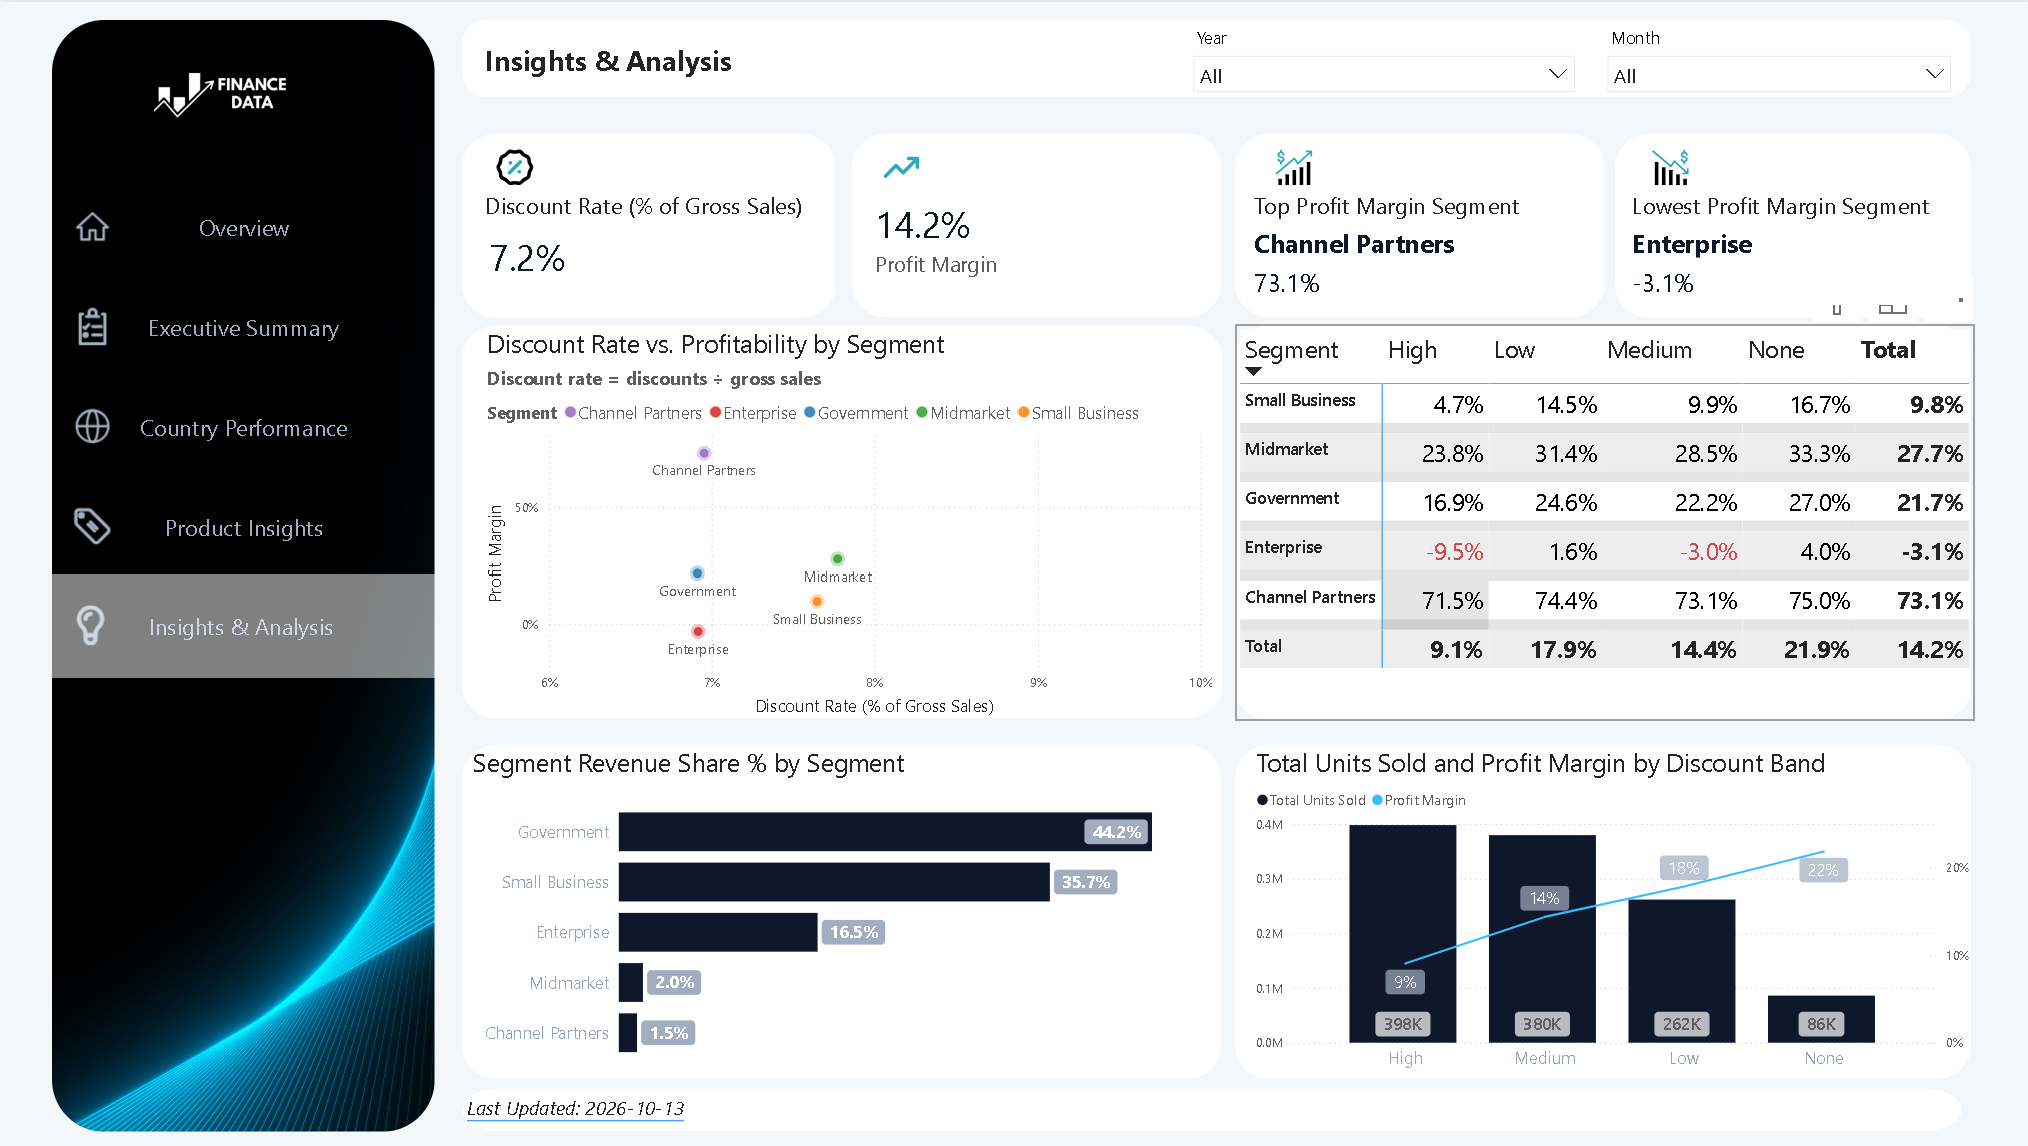

The dashboard page shown, as its layout file describes it:
{"tool":"powerbi","page":{"name":"Insights & Analysis","canvas":[1970,1150],"ordinal":4},"visuals":[{"type":"image","box":[52,18,368,1068],"z":0},{"type":"actionButton","box":[52,263.9,369,97],"z":1000},{"type":"actionButton","box":[52,359.1,369,97.2],"z":2000},{"type":"actionButton","box":[52,456,369,97],"z":3000},{"type":"image","box":[0,17.5,420.3,149.8],"z":4000},{"type":"shape","box":[446.4,17,1449.7,74.4],"z":5000},{"type":"textbox","box":[463.4,31.9,550.6,59.5],"z":6000},{"type":"shape","box":[820.5,127.5,354,176],"z":7000},{"type":"shape","box":[446.4,127.5,359.2,176.4],"z":8000},{"type":"slicer","fields":{"Values":["financials.Year"]},"box":[1139.4,17,386.9,74.4],"z":9000},{"type":"slicer","fields":{"Values":["financials.Month Name"]},"box":[1536.9,17,350.7,74.4],"z":10000},{"type":"actionButton","box":[52,167,369,97],"z":11000},{"type":"shape","box":[1188.3,127.5,355,176],"z":12000},{"type":"shape","box":[1553.9,127.5,342.2,176.4],"z":13000},{"type":"image","box":[834.8,138.2,68.1,40.9],"z":14000},{"type":"image","box":[1210.6,138.3,67,41],"z":15000},{"type":"image","box":[1572.1,138,67.9,41.2],"z":16000},{"type":"image","box":[463.4,138.2,67,41],"z":17000},{"type":"shape","box":[446,312,730,376],"z":18000},{"type":"shape","box":[1188,312,708,378],"z":19000},{"type":"cardVisual","fields":{"Data":["Basemeasure.Profit Margin"]},"box":[834.8,180,325,130],"z":20000},{"type":"cardVisual","title":"Discount Rate (% of Gross Sales)","fields":{"Data":["Basemeasure.Overall Discount Rate"]},"box":[464.2,180.5,325.4,130.9],"z":21000},{"type":"pivotTable","fields":{"Rows":["financials.Segment"],"Values":["Basemeasure.Profit Margin"],"Columns":["financials.Discount Band"]},"box":[1188,310,712,380],"z":22000},{"type":"scatterChart","title":"Discount Rate vs. Profitability by Segment","fields":{"Series":["financials.Segment"],"Y":["Basemeasure.Profit Margin"],"X":["Basemeasure.Overall Discount Rate"]},"box":[466,312,706,380],"z":23000},{"type":"shape","box":[446.4,714.2,729.1,321],"z":24000},{"type":"cardVisual","title":"Top Profit Margin Segment","fields":{"Data":["Basemeasure.Top Margin Segment Name","Basemeasure.Top Margin Segment Value"]},"box":[1202.2,180,325,130.9],"z":25000},{"type":"cardVisual","title":"Lowest Profit Margin Segment","fields":{"Data":["Basemeasure.Lowest Margin Segment Name","Basemeasure.Lowest Margin Segment Value"]},"box":[1565.3,180.5,325,130.9],"z":26000},{"type":"clusteredBarChart","fields":{"Category":["financials.Segment"],"Y":["Basemeasure.Segment Revenue Share %"]},"box":[452.8,714.2,722.7,321],"z":27000},{"type":"actionButton","box":[50.6,550.7,367.8,97.3],"z":28000},{"type":"shape","box":[1188.3,714.2,707.9,321],"z":29000},{"type":"lineClusteredColumnComboChart","fields":{"Category":["financials.Discount Band"],"Y":["Basemeasure.Total Units Sold"],"Y2":["Basemeasure.Profit Margin"]},"box":[1203.1,714.2,695.1,323.1],"z":30000},{"type":"shape","box":[446.4,1043.7,1441.2,40.4],"z":31000},{"type":"textbox","box":[446.4,1043.7,342.2,40.4],"z":32000},{"type":"shape","title":"Insights&Analysis_Active_Indicator\"","box":[52.5,550,369,99.2],"z":32005}]}

Visuals, with their boxes on the page's 1970x1150 design canvas (x1, y1, x2, y2). These are canvas units, not pixel positions in the 2028x1146 screenshot, which may show the page scaled, cropped or inside an application window:
image: (52, 18, 420, 1086)
actionButton: (52, 264, 421, 361)
actionButton: (52, 359, 421, 456)
actionButton: (52, 456, 421, 553)
image: (0, 18, 420, 167)
shape: (446, 17, 1896, 91)
textbox: (463, 32, 1014, 91)
shape: (820, 128, 1174, 304)
shape: (446, 128, 806, 304)
slicer - financials.Year: (1139, 17, 1526, 91)
slicer - financials.Month Name: (1537, 17, 1888, 91)
actionButton: (52, 167, 421, 264)
shape: (1188, 128, 1543, 304)
shape: (1554, 128, 1896, 304)
image: (835, 138, 903, 179)
image: (1211, 138, 1278, 179)
image: (1572, 138, 1640, 179)
image: (463, 138, 530, 179)
shape: (446, 312, 1176, 688)
shape: (1188, 312, 1896, 690)
cardVisual - Basemeasure.Profit Margin: (835, 180, 1160, 310)
"Discount Rate (% of Gross Sales)" cardVisual: (464, 180, 790, 311)
pivotTable - financials.Segment x Basemeasure.Profit Margin: (1188, 310, 1900, 690)
"Discount Rate vs. Profitability by Segment" scatterChart: (466, 312, 1172, 692)
shape: (446, 714, 1176, 1035)
"Top Profit Margin Segment" cardVisual: (1202, 180, 1527, 311)
"Lowest Profit Margin Segment" cardVisual: (1565, 180, 1890, 311)
clusteredBarChart - financials.Segment x Basemeasure.Segment Revenue Share %: (453, 714, 1176, 1035)
actionButton: (51, 551, 418, 648)
shape: (1188, 714, 1896, 1035)
lineClusteredColumnComboChart - financials.Discount Band x Basemeasure.Total Units Sold: (1203, 714, 1898, 1037)
shape: (446, 1044, 1888, 1084)
textbox: (446, 1044, 789, 1084)
"Insights&Analysis_Active_Indicator"" shape: (52, 550, 422, 649)
